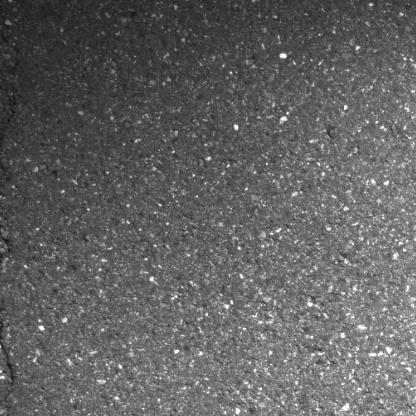Cracks: (0, 0, 21, 197), (0, 219, 18, 406)
